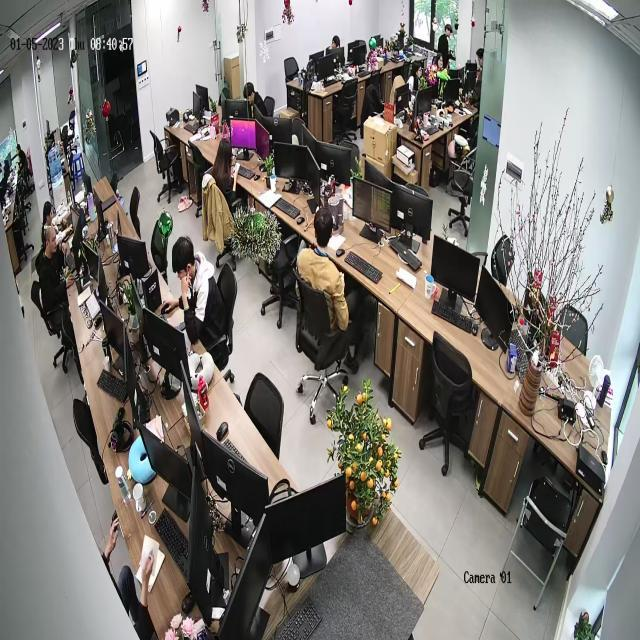person: (296, 207, 362, 370), (167, 237, 227, 357), (35, 223, 66, 315), (204, 139, 239, 212), (437, 20, 452, 69), (406, 55, 425, 91), (329, 35, 347, 70), (41, 193, 56, 233)
